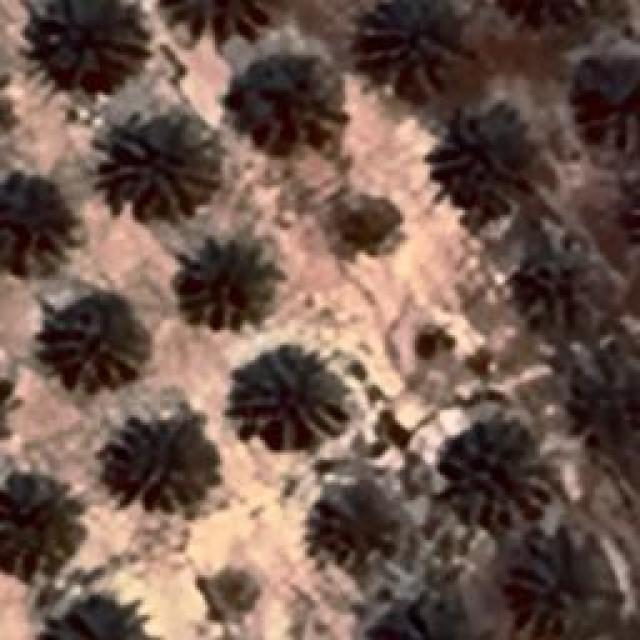PalmTree: (63, 50, 608, 101), (90, 110, 220, 225), (95, 398, 215, 512), (225, 342, 348, 448), (32, 288, 150, 390), (438, 430, 552, 535), (170, 232, 282, 332), (432, 110, 536, 215), (352, 0, 459, 102), (30, 0, 145, 88), (5, 476, 90, 584), (232, 61, 336, 139), (0, 168, 72, 266), (516, 546, 594, 629), (318, 485, 400, 563), (514, 252, 602, 316), (325, 190, 405, 260), (572, 372, 640, 438), (48, 595, 142, 640), (374, 604, 478, 640), (494, 0, 598, 25)
